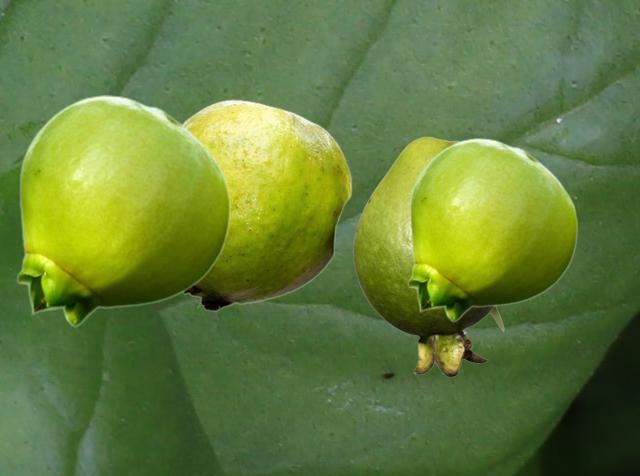guava: (16, 95, 230, 326), (353, 136, 504, 376), (183, 99, 351, 311), (407, 138, 577, 321)
